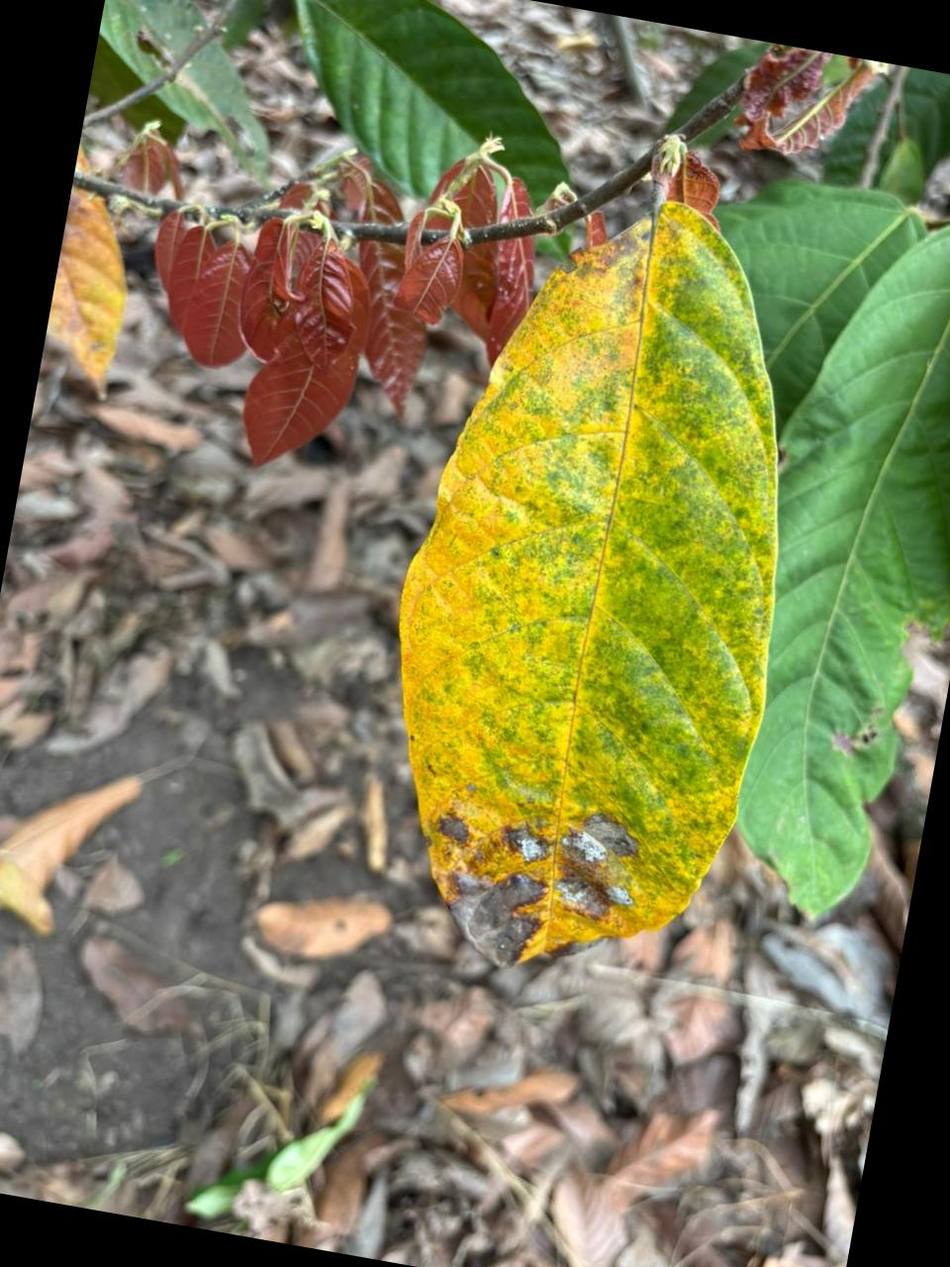Fosforo: (399, 202, 776, 963)
